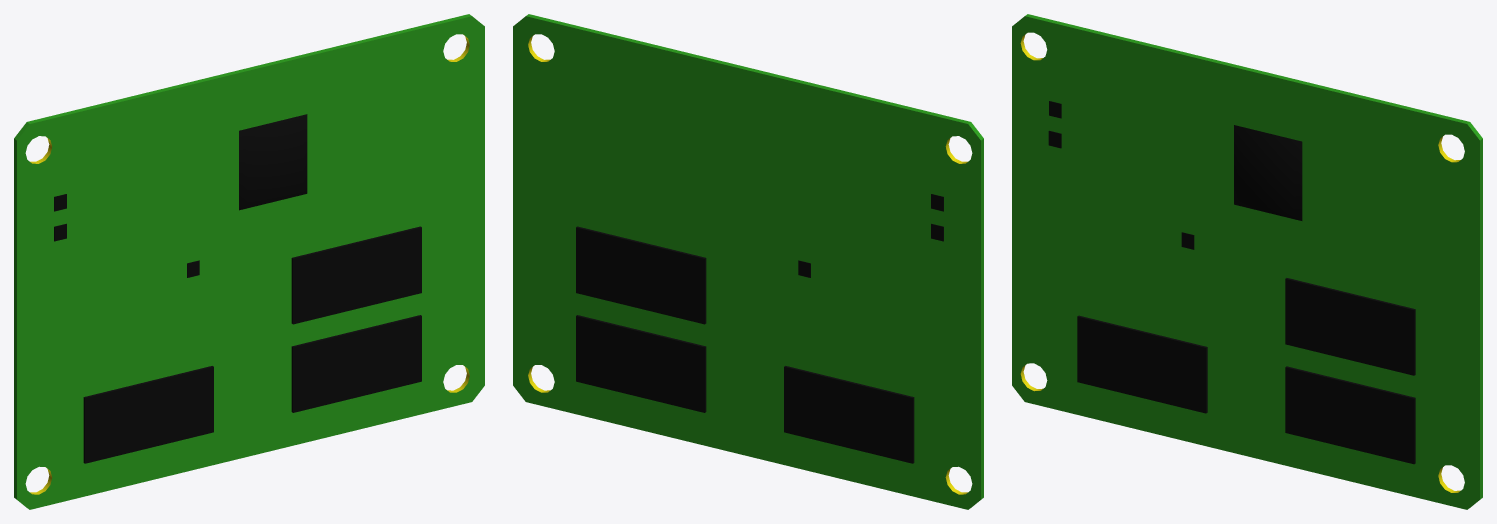
Rendered from pcb.glb.
3 views of the same model, side by side, from view 1: azimuth 30°, elevation 25°; view 2: azimuth 150°, elevation 25°; view 3: azimuth 330°, elevation 25° (orthographic).
Parts seen in each view (by area): view 1: PCB three; view 2: PCB three; view 3: PCB three.
Boxes of the visible parts, x1=… form: PCB three: x1=14, y1=14, x2=484, y2=509; PCB three: x1=513, y1=14, x2=983, y2=509; PCB three: x1=1012, y1=14, x2=1482, y2=509.
Size of the model in its own units: 3.16 by 2.49 by 0.0772.
